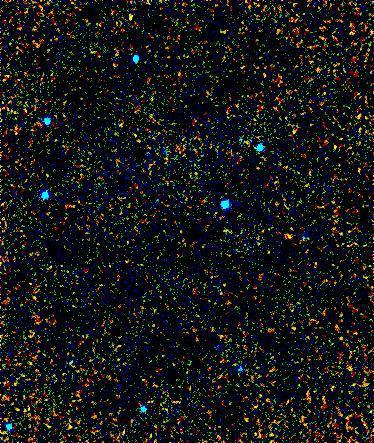star: (274, 220, 304, 250)
